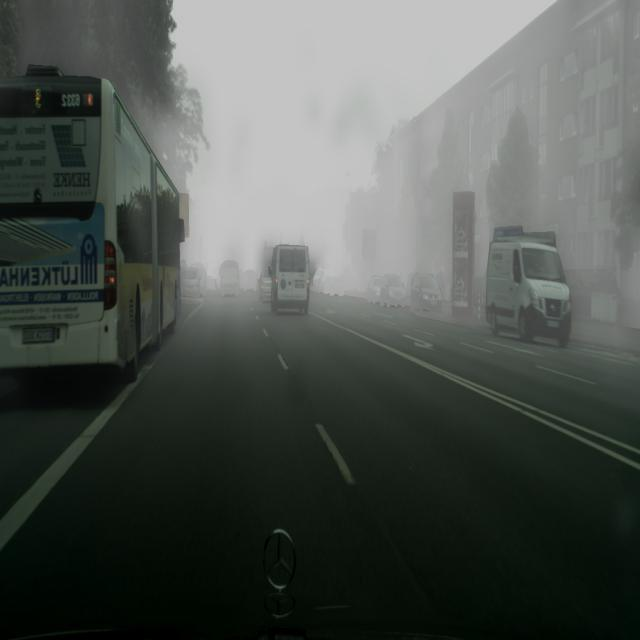bicycle: (1, 73, 185, 380)
train: (486, 232, 572, 347), (271, 244, 310, 316), (219, 259, 239, 297)
truck: (410, 272, 442, 314), (379, 273, 406, 308), (181, 267, 202, 298), (323, 273, 344, 297), (258, 267, 272, 302), (367, 276, 383, 303), (331, 274, 344, 296)
